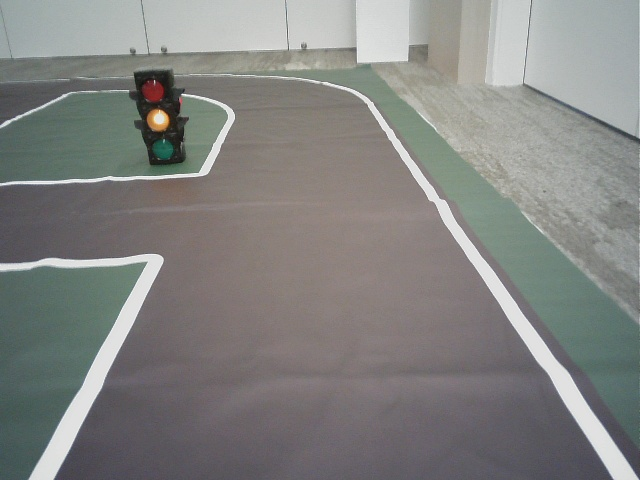yellow: (135, 77, 176, 159)
